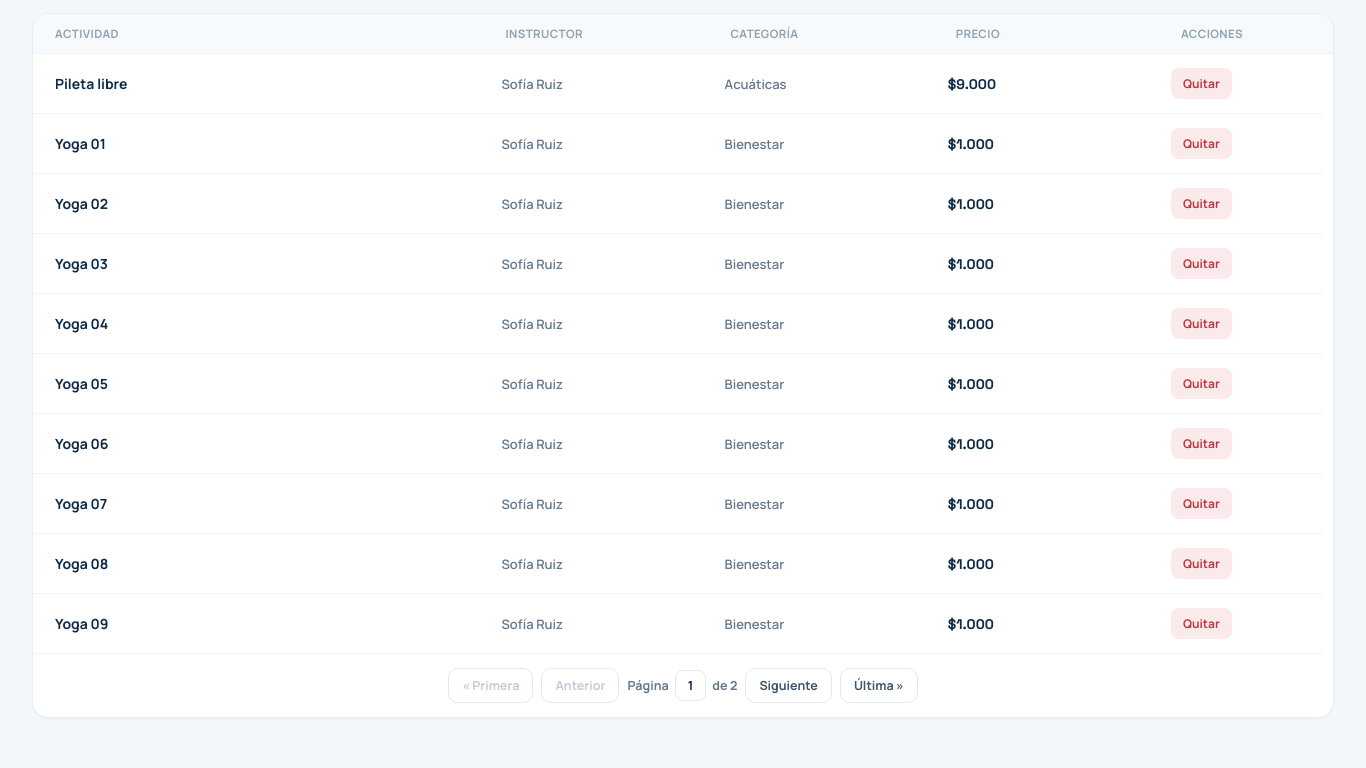
Test: Gestión › Actividades › 10 por página, en una lista con scroll propio
(page scrolled)
Click the button "Siguiente" at (789, 686), box [745,668,832,703]
(page scrolled)
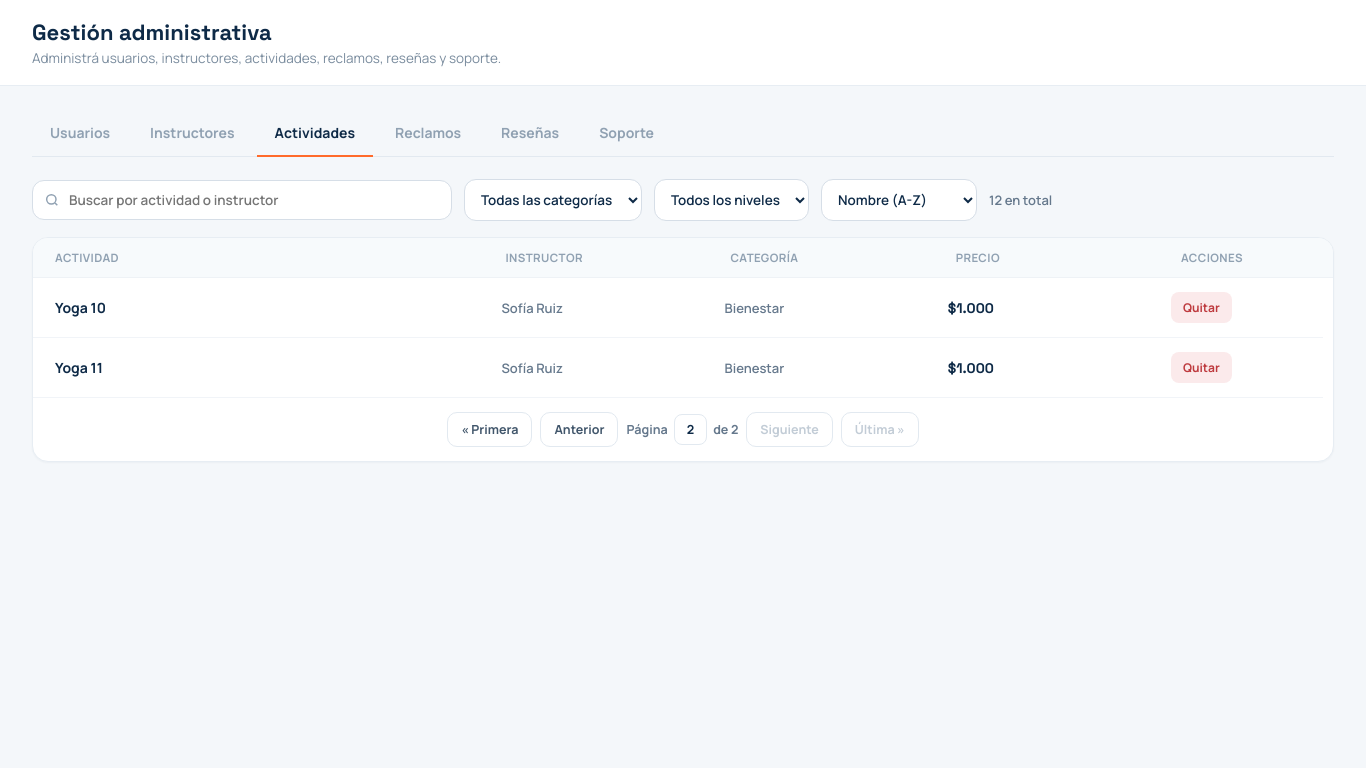
Now the number of buttons "Quitar" is 2, box [1171,292,1232,323]; [1171,352,1232,383]
